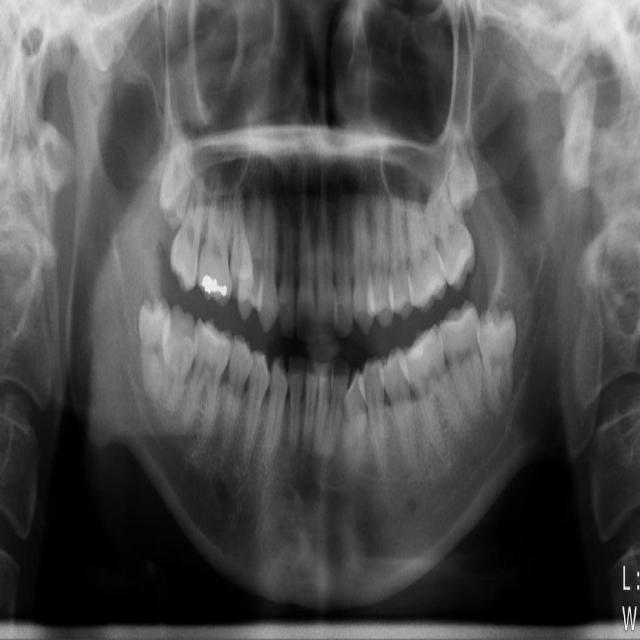Filling: (200, 272, 228, 296)
impacted tooth: (479, 309, 517, 415), (158, 121, 191, 226), (139, 302, 170, 401), (446, 122, 477, 209)
